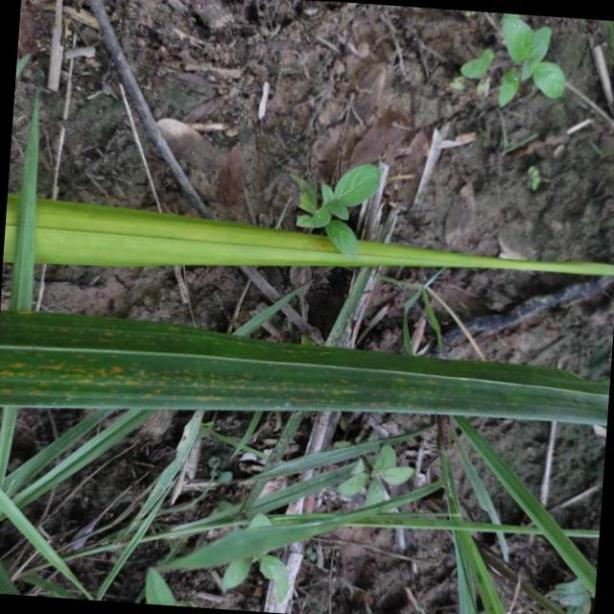nitrogen: (6, 307, 614, 432), (0, 189, 614, 276)
